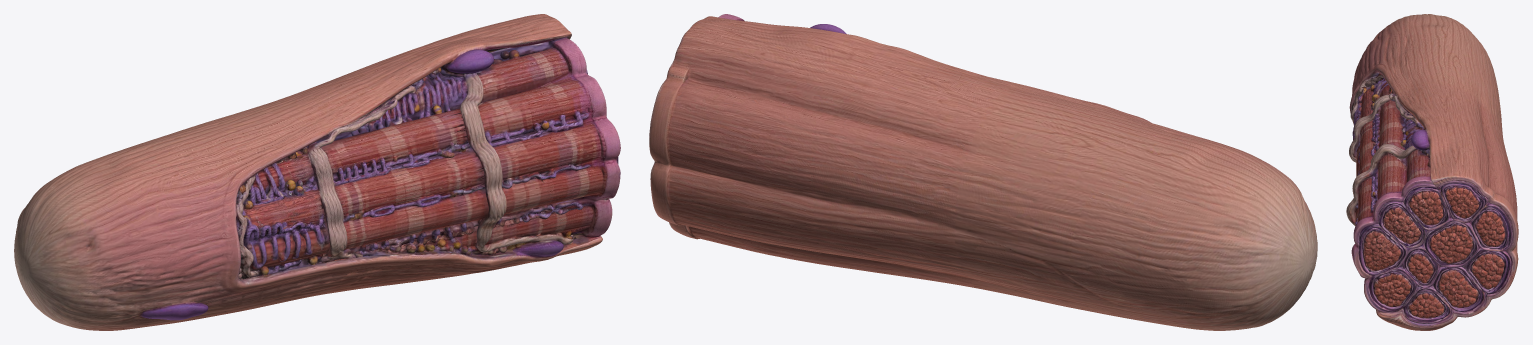
The model's file is muscle-tripo-web.glb.
3 views of the same model, side by side, from view 1: azimuth 30°, elevation 25°; view 2: azimuth 150°, elevation 25°; view 3: azimuth 270°, elevation 25° (orthographic). The views are drawn at different scales.
Parts seen in each view (by area): view 1: tripo_node_8833aa08-7218-4882-bd4f-70801eaa800e; view 2: tripo_node_8833aa08-7218-4882-bd4f-70801eaa800e; view 3: tripo_node_8833aa08-7218-4882-bd4f-70801eaa800e.
Boxes of the visible parts, <box> form: tripo_node_8833aa08-7218-4882-bd4f-70801eaa800e: <box>14,14,620,330</box>; tripo_node_8833aa08-7218-4882-bd4f-70801eaa800e: <box>649,14,1317,330</box>; tripo_node_8833aa08-7218-4882-bd4f-70801eaa800e: <box>1346,14,1518,330</box>.
Bounding box in the file's own units: 0.9781 × 0.3645 × 0.3456.
1 material, 1 textured.
